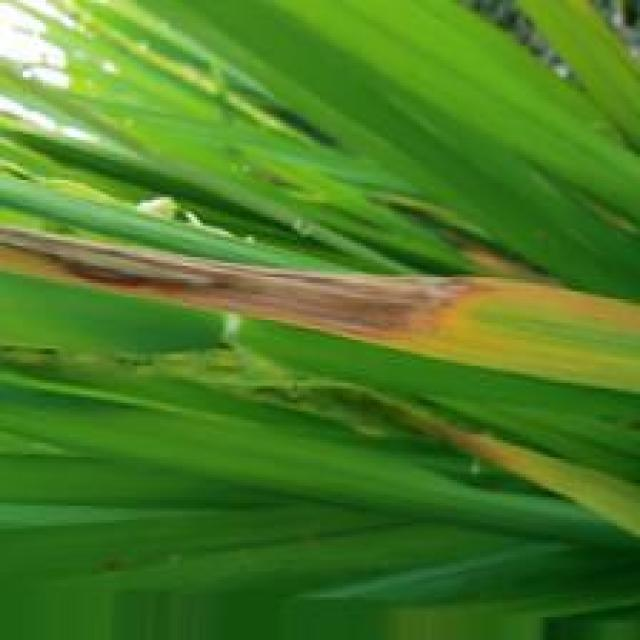Leaf_Scald: (4, 222, 498, 352)
